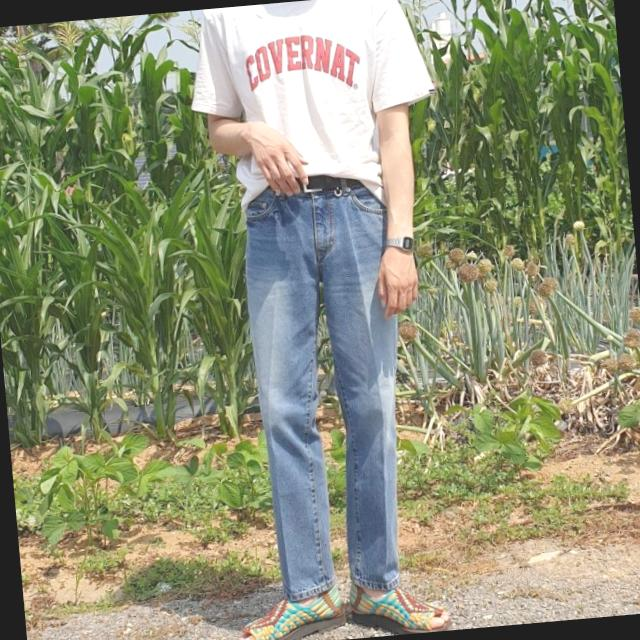denimpants: (234, 170, 420, 596)
shortsleeve: (181, 0, 448, 225)
